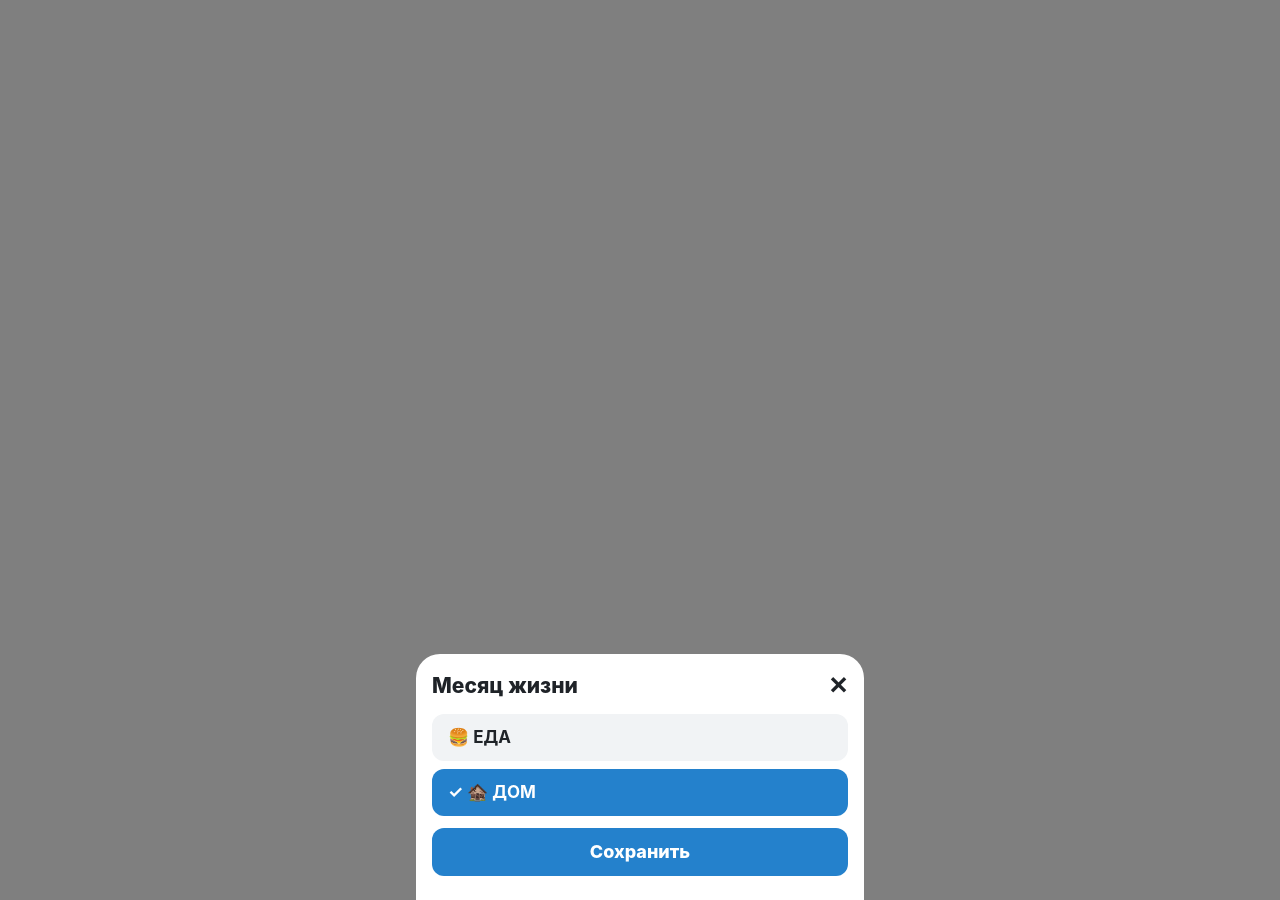
Test: LifeSheet › writes the server's refusal
Click the button "Сохранить": (640,852) top-left (432, 828), bottom-right (848, 876)
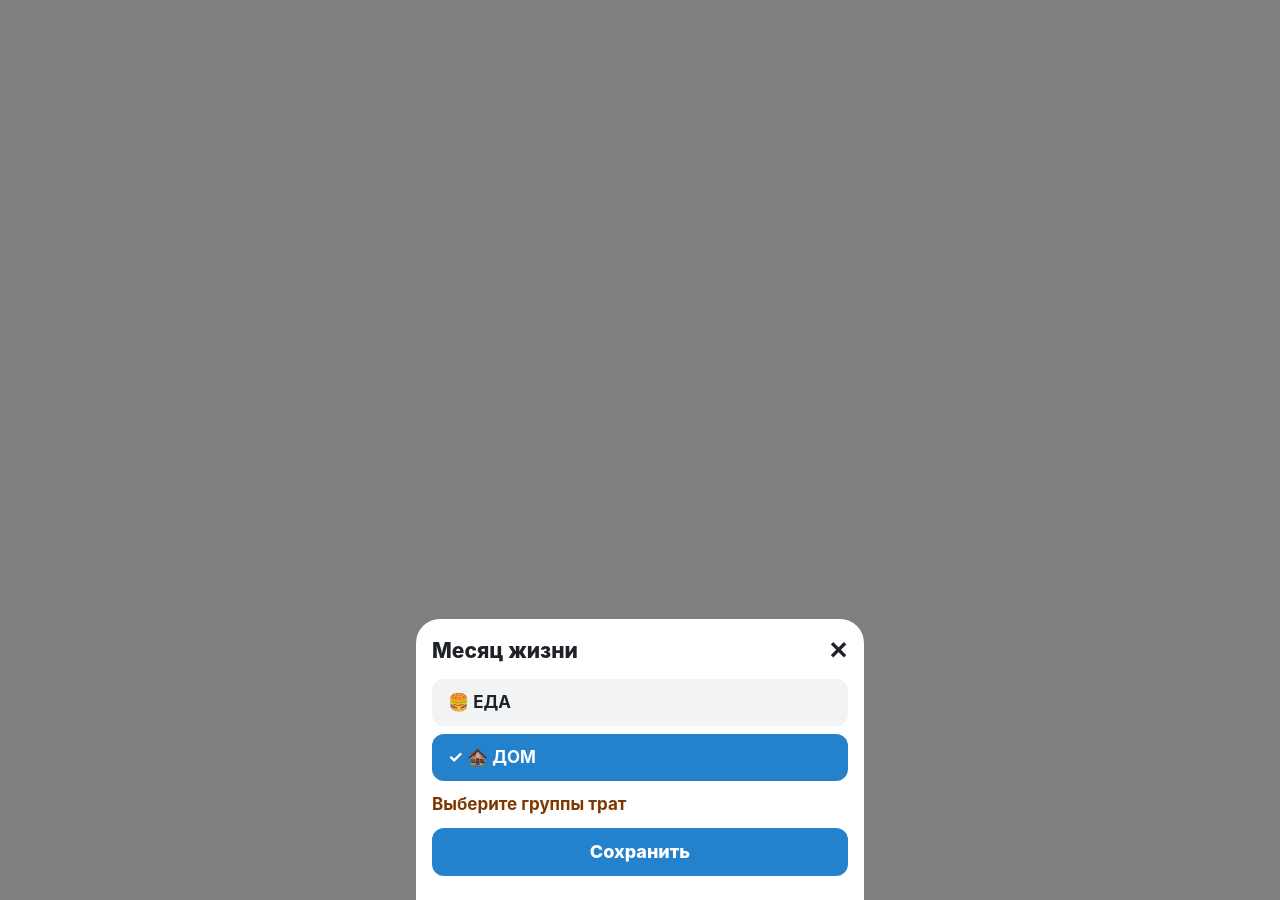
Check: the text "Выберите группы трат" is shown, box top-left (432, 794), bottom-right (626, 814)
